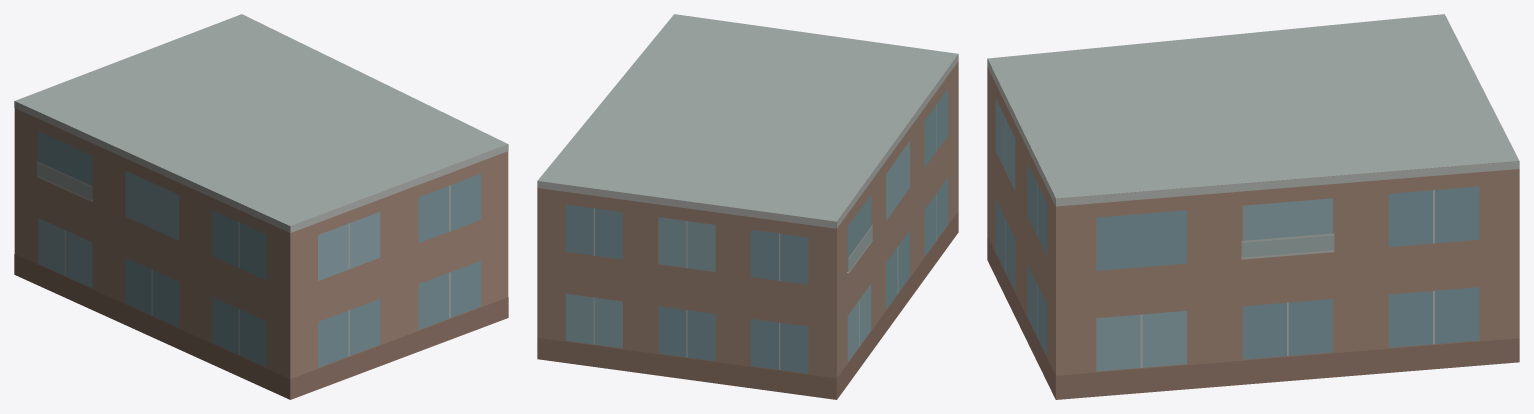
File: survey-upis-32601689.glb
3 views of the same model, side by side, from view 1: azimuth 30°, elevation 25°; view 2: azimuth 150°, elevation 25°; view 3: azimuth 270°, elevation 25° (orthographic). The views are drawn at different scales.
Visible parts, largest first — view 1: survey-upis-32601689.tmp; view 2: survey-upis-32601689.tmp; view 3: survey-upis-32601689.tmp.
Boxes of the visible parts, <box> form: survey-upis-32601689.tmp: <box>14,14,508,399</box>; survey-upis-32601689.tmp: <box>537,14,958,399</box>; survey-upis-32601689.tmp: <box>987,14,1519,399</box>.
Size of the model in its own units: 12 by 6.1 by 14.62.
